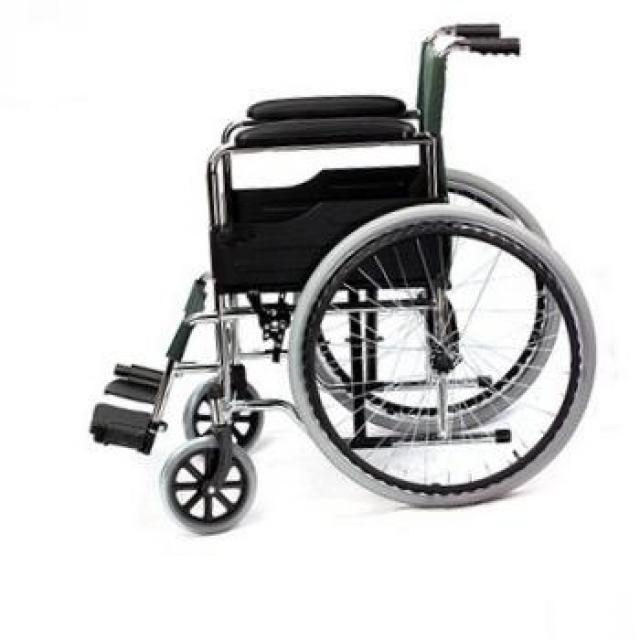wheelchair: (70, 13, 609, 544)
